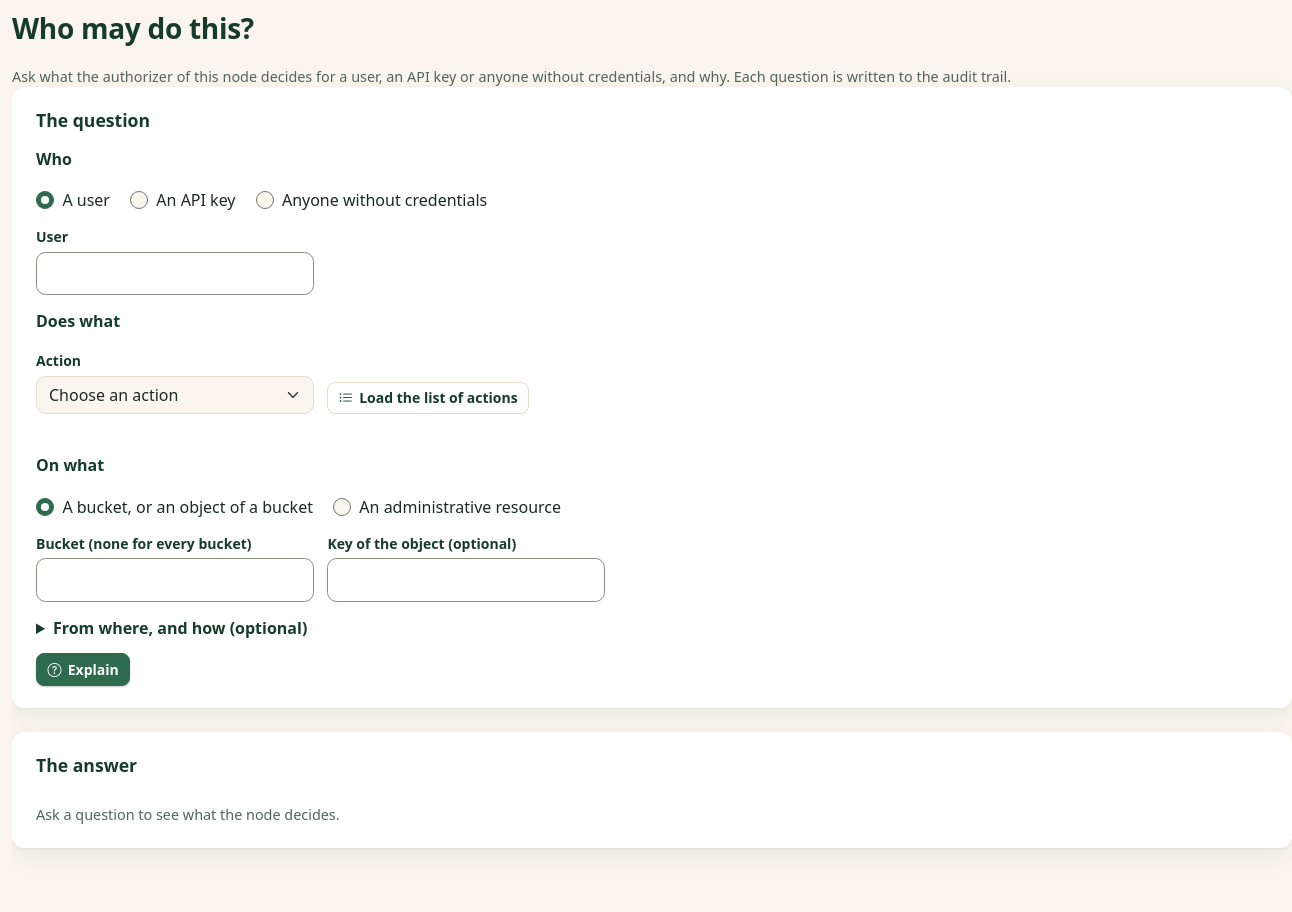
Test: the catalogue › offers the actions of the catalogue, by group, and no wildcard
Click the button "Load the list of actions" at (428, 398), box [327, 382, 529, 414]
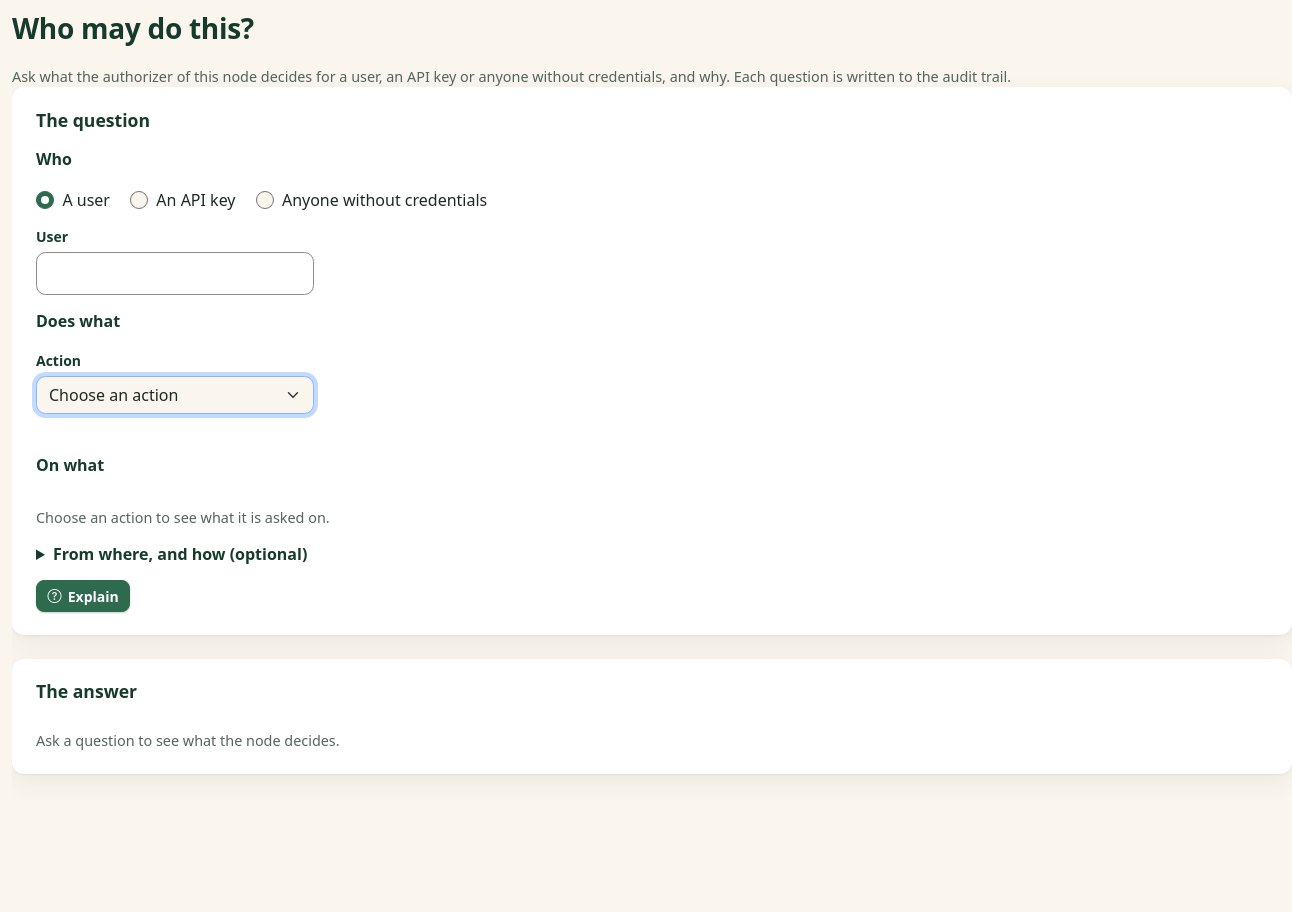
Select "admin:GetUser" in the dropdown labelled "Action" at (175, 395), box [36, 376, 314, 414]
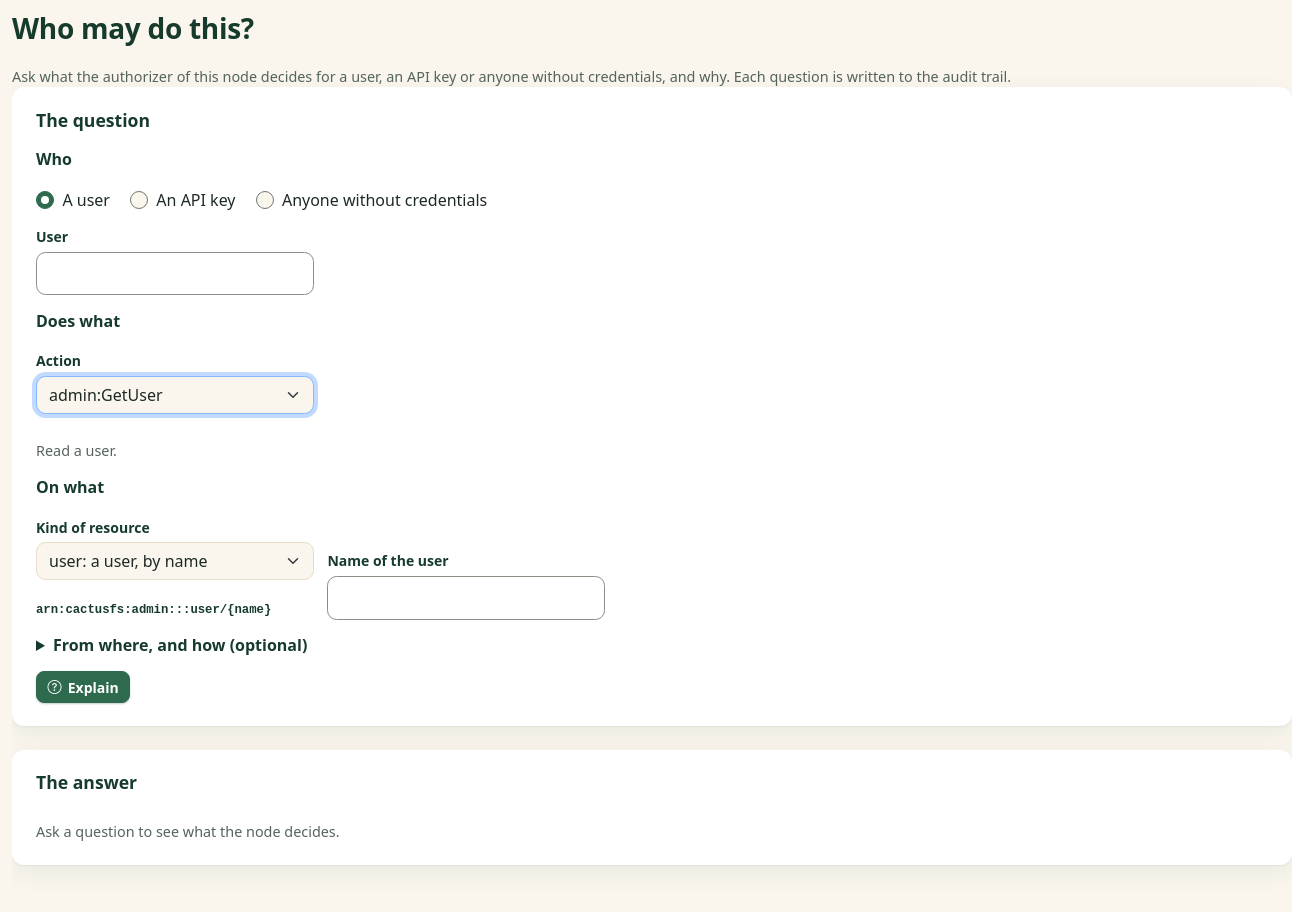
Check: the text "Read a user." is shown, box [36, 441, 117, 460]
